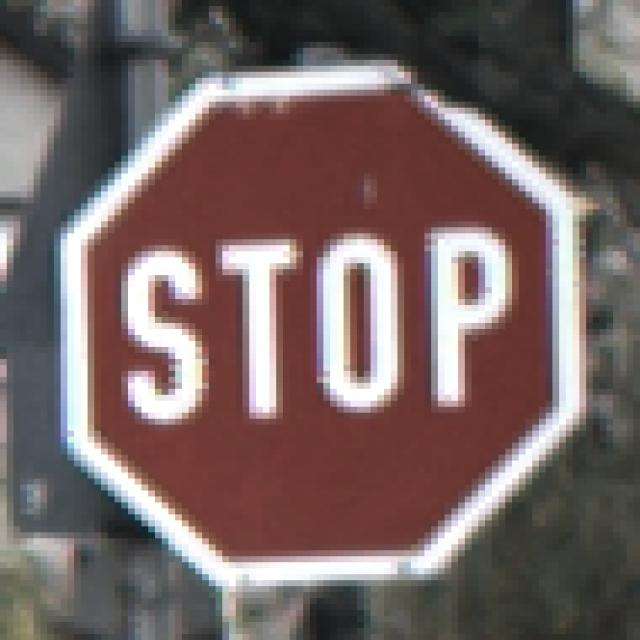STOP: (55, 61, 587, 587)
